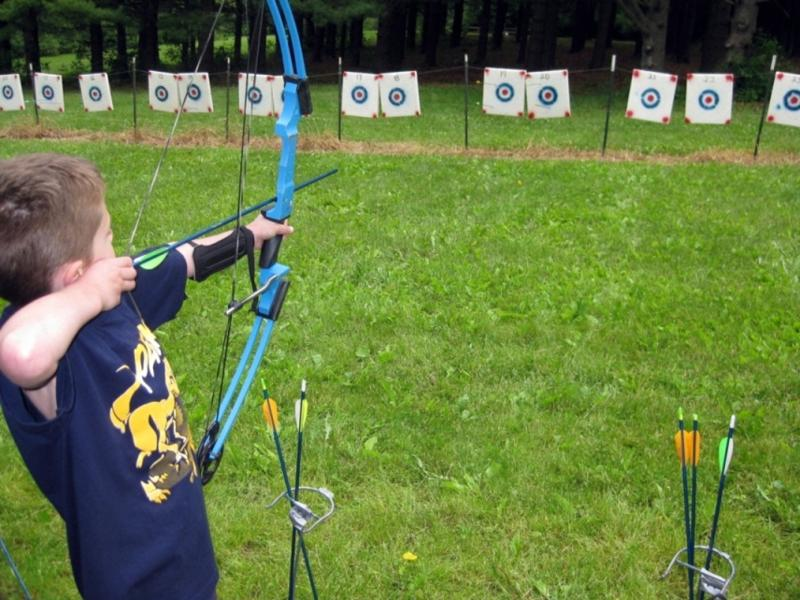person: (1, 149, 296, 600)
